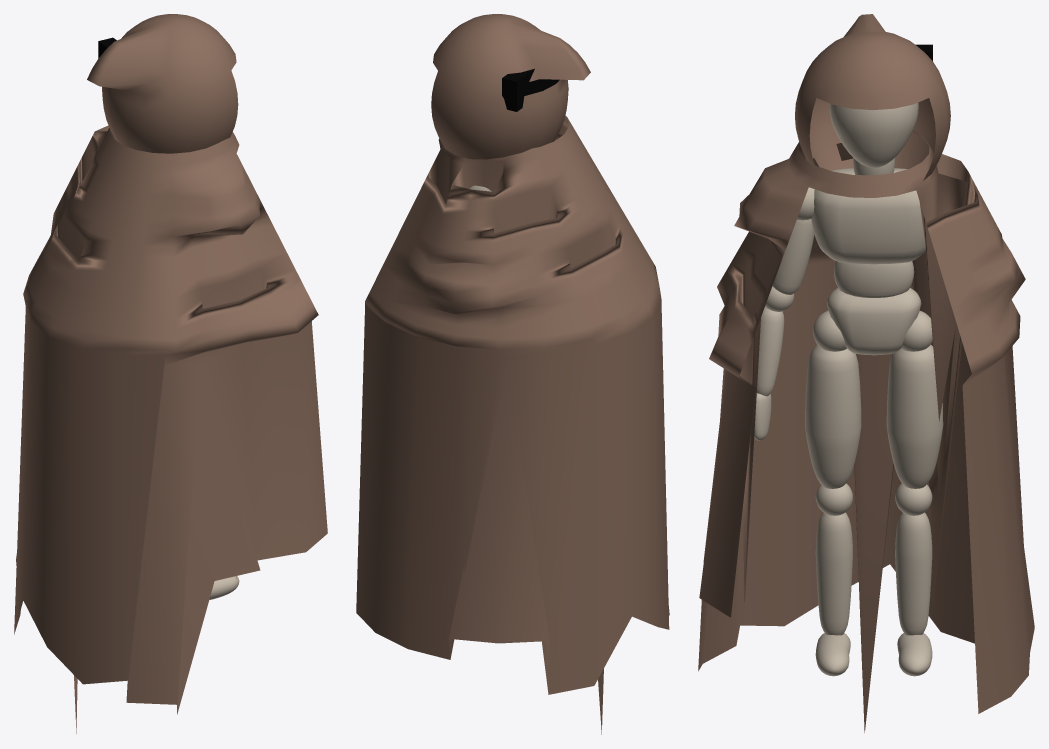
The model's file is figure - hacker.fbx.
The picture shows the model from 3 angles, left to right: view 1: azimuth 30°, elevation 25°; view 2: azimuth 150°, elevation 25°; view 3: azimuth 270°, elevation 25°; orthographic projection. The views are drawn at different scales.
Visible parts, largest first — view 1: pCone3, polySurface51; view 2: pCone3, polySurface51, pCube1; view 3: pCone3, polySurface51, polySurface145, polySurface151, polySurface160, polySurface147, polySurface162, polySurface153, polySurface144, polySurface148, polySurface155, polySurface157 (+7 smaller).
Part boxes in pixels (x1=…): pCone3: x1=14, y1=125, x2=327, y2=733; polySurface51: x1=87, y1=14, x2=238, y2=153; pCone3: x1=356, y1=115, x2=669, y2=734; polySurface51: x1=431, y1=14, x2=590, y2=159; pCube1: x1=502, y1=68, x2=559, y2=111; pCone3: x1=698, y1=130, x2=1034, y2=732; polySurface51: x1=795, y1=14, x2=950, y2=180; polySurface145: x1=811, y1=168, x2=925, y2=264; polySurface151: x1=805, y1=344, x2=861, y2=488; polySurface160: x1=886, y1=344, x2=943, y2=488; polySurface147: x1=826, y1=288, x2=921, y2=355; polySurface162: x1=895, y1=512, x2=932, y2=635; polySurface153: x1=815, y1=512, x2=852, y2=635; polySurface144: x1=829, y1=103, x2=918, y2=167; polySurface148: x1=834, y1=261, x2=914, y2=297; polySurface155: x1=772, y1=219, x2=814, y2=294; polySurface157: x1=756, y1=307, x2=784, y2=396.
Bounding box in the file's own units: 9.28 × 26.05 × 10.58.
